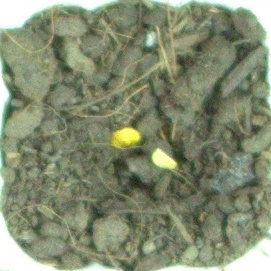chilli seed: (108, 126, 144, 150), (150, 146, 179, 172)
